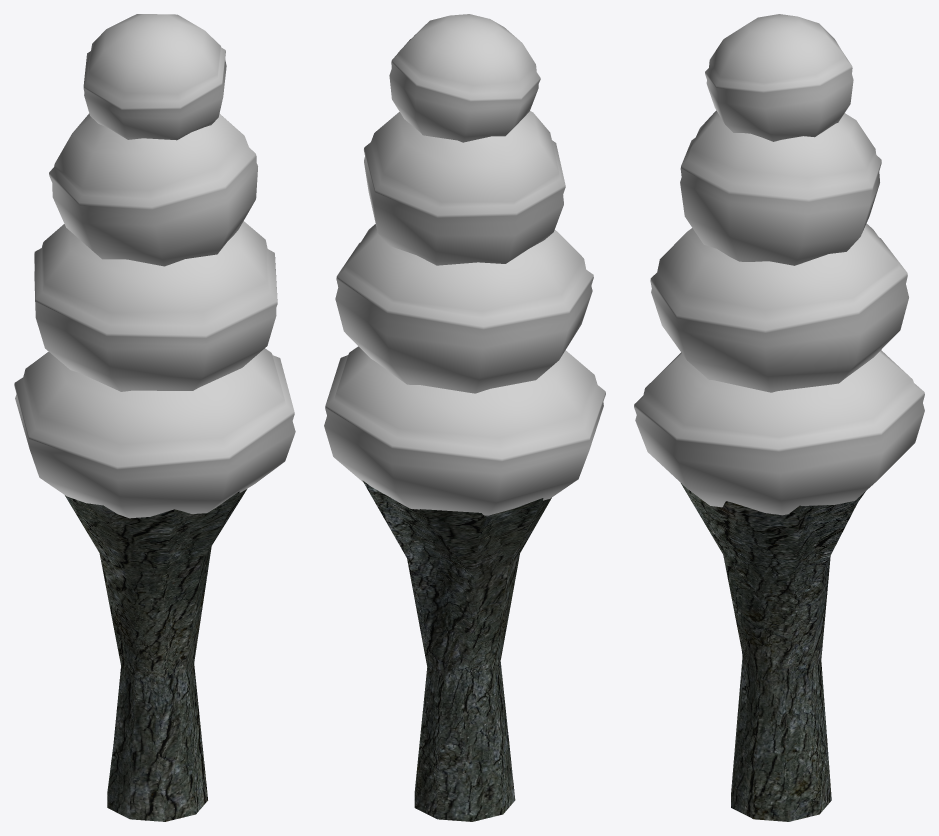
Rendered from hillTree2.obj.
3 views of the same model, side by side, from view 1: azimuth 30°, elevation 25°; view 2: azimuth 150°, elevation 25°; view 3: azimuth 270°, elevation 25° (orthographic).
Visible parts, largest first — view 1: Sphere, Sphere.001, wood_Cylinder, Sphere.002, Sphere.003; view 2: Sphere, wood_Cylinder, Sphere.001, Sphere.002, Sphere.003; view 3: Sphere, wood_Cylinder, Sphere.001, Sphere.002, Sphere.003.
Boxes of the visible parts, x1,y1,x2,y2 form: Sphere: (14,348,295,518); Sphere.001: (34,221,277,391); wood_Cylinder: (65,489,246,821); Sphere.002: (49,113,257,266); Sphere.003: (83,14,226,140); Sphere: (324,346,605,515); wood_Cylinder: (362,480,551,821); Sphere.001: (335,224,593,393); Sphere.002: (364,111,565,265); Sphere.003: (389,14,540,142); Sphere: (634,350,924,515); wood_Cylinder: (681,483,865,821); Sphere.001: (650,223,908,392); Sphere.002: (680,110,881,265); Sphere.003: (705,14,853,141).
Bounding box in the file's own units: 1.08 × 3.2 × 1.09.
